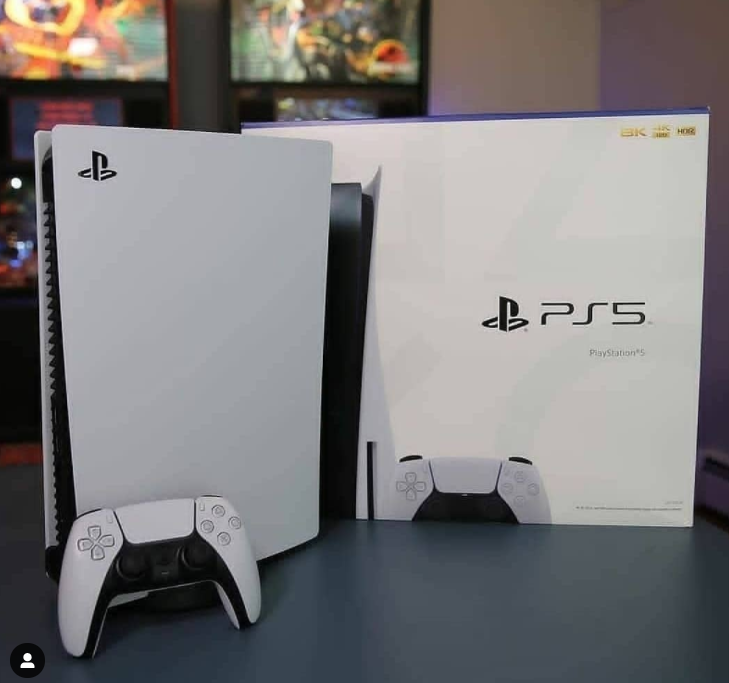gamingconsole: (59, 501, 263, 645)
